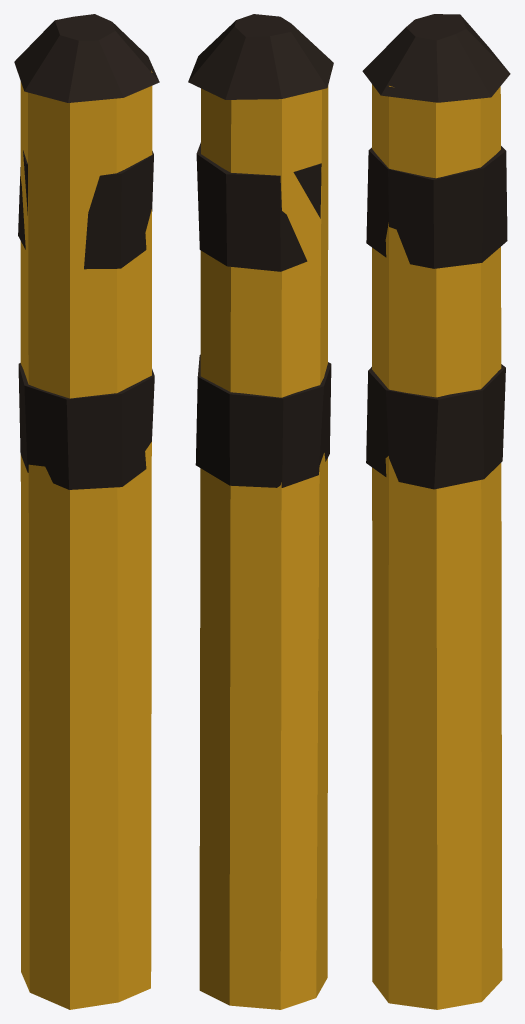
The model's file is fence_post.glb.
The picture shows the model from 3 angles, left to right: view 1: azimuth 30°, elevation 25°; view 2: azimuth 150°, elevation 25°; view 3: azimuth 270°, elevation 25°; orthographic projection.
Parts seen in each view (by area): view 1: FencePost; view 2: FencePost; view 3: FencePost.
Boxes of the visible parts, left/top/right/bottom form: FencePost: left=14, top=14, right=159, bottom=1009; FencePost: left=188, top=14, right=333, bottom=1009; FencePost: left=362, top=14, right=510, bottom=1009.
Size of the model in its own units: 0.1448 by 1.05 by 0.147.
